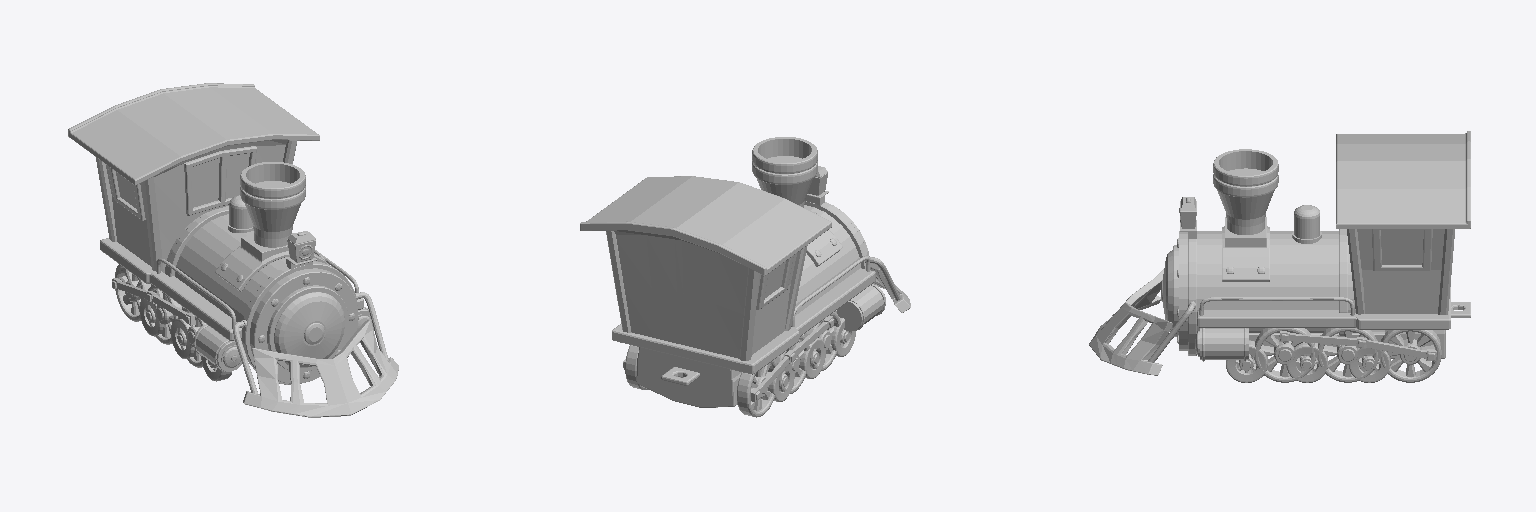
File: wagon_resource.obj
3 views of the same model, side by side, from view 1: azimuth 30°, elevation 25°; view 2: azimuth 150°, elevation 25°; view 3: azimuth 270°, elevation 25° (orthographic).
Parts seen in each view (by area): view 1: cabine, nez, devant, cheminer, sol, socle_cheminer, nez.003, poutre, roue.004, truc.001, nez.001, poutre.003 (+4 smaller); view 2: cabine, sol, cheminer, nez, nez.003, roue.004, poutre.003, truc.001, poutre.002, socle_cheminer, roue.013, poutre (+4 smaller); view 3: cabine, nez, sol, cheminer, devant, socle_cheminer, roue.001, nez.002, roue, roue.002, truc, roue.013 (+7 smaller).
Part boxes in pixels (bbox=[...]): cabine: bbox=[68, 83, 319, 269]; nez: bbox=[165, 206, 358, 384]; devant: bbox=[243, 319, 398, 417]; cheminer: bbox=[240, 162, 305, 247]; sol: bbox=[100, 238, 363, 340]; socle_cheminer: bbox=[215, 233, 328, 291]; nez.003: bbox=[193, 324, 241, 371]; poutre: bbox=[143, 177, 163, 271]; roue.004: bbox=[115, 264, 150, 321]; truc.001: bbox=[112, 278, 195, 325]; nez.001: bbox=[286, 231, 316, 269]; poutre.003: bbox=[96, 157, 116, 241]; cabine: bbox=[580, 176, 831, 358]; sol: bbox=[612, 268, 875, 407]; cheminer: bbox=[752, 137, 817, 207]; nez: bbox=[795, 201, 868, 315]; nez.003: bbox=[837, 284, 885, 330]; roue.004: bbox=[737, 360, 776, 417]; poutre.003: bbox=[740, 268, 759, 360]; truc.001: bbox=[751, 315, 833, 401]; poutre.002: bbox=[606, 231, 631, 332]; socle_cheminer: bbox=[806, 211, 842, 266]; roue.013: bbox=[799, 338, 825, 378]; poutre: bbox=[785, 245, 807, 330]; cabine: bbox=[1336, 131, 1470, 313]; nez: bbox=[1161, 229, 1355, 355]; sol: bbox=[1197, 287, 1470, 358]; cheminer: bbox=[1213, 149, 1278, 234]; devant: bbox=[1089, 269, 1172, 375]; socle_cheminer: bbox=[1222, 217, 1269, 281]; roue.001: bbox=[1380, 330, 1441, 382]; nez.002: bbox=[1195, 328, 1248, 361]; roue: bbox=[1254, 328, 1315, 382]; roue.002: bbox=[1318, 328, 1378, 382]; truc: bbox=[1279, 331, 1436, 361]; roue.013: bbox=[1286, 342, 1327, 382].
Bounding box in the file's own units: 5.3 × 5.32 × 9.48.